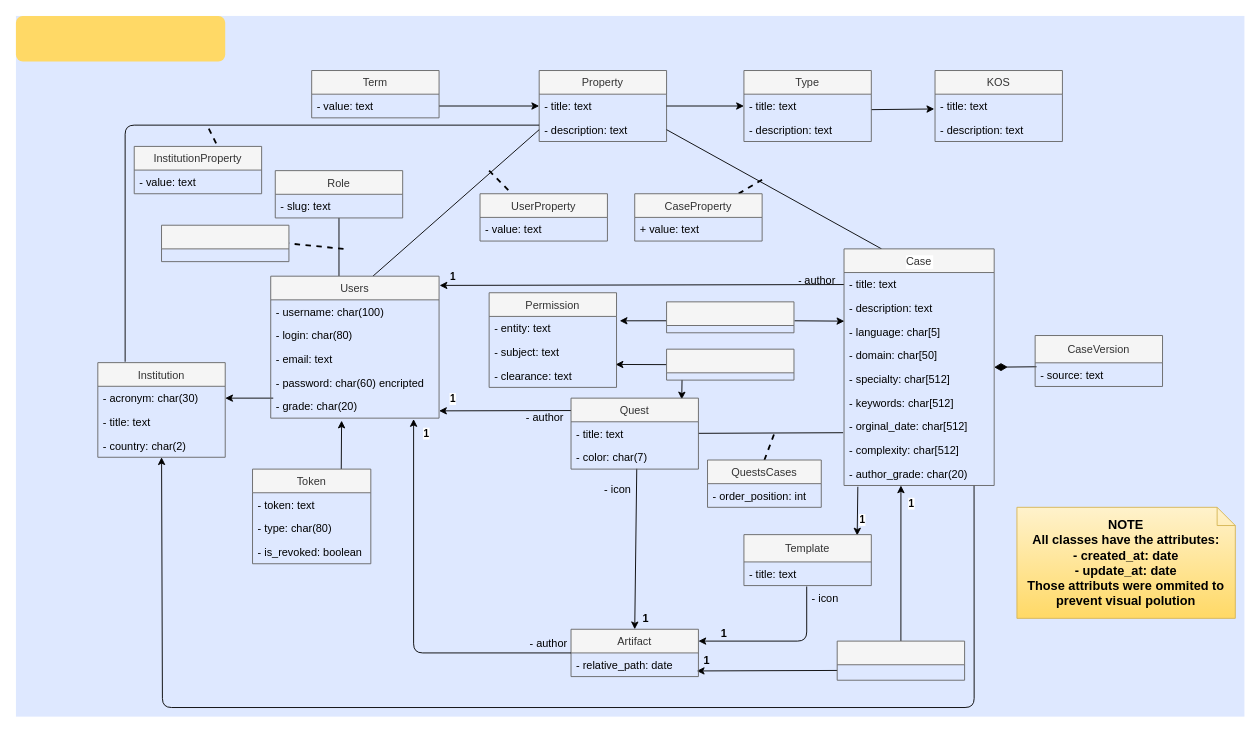
The diagram is 1259 pixels wide and 732 high, and some of its shapes have lost their labels. The centre of each missing label's shape, as x and y in pixels:
CaseArtifacts: (900,660)
CasePermissions: (730,317)
Class Diagram - Release: v1_2_0 Author: Fagner Leal: (120,38)
QuestPermissions: (730,364)
RolesUsers: (225,243)
